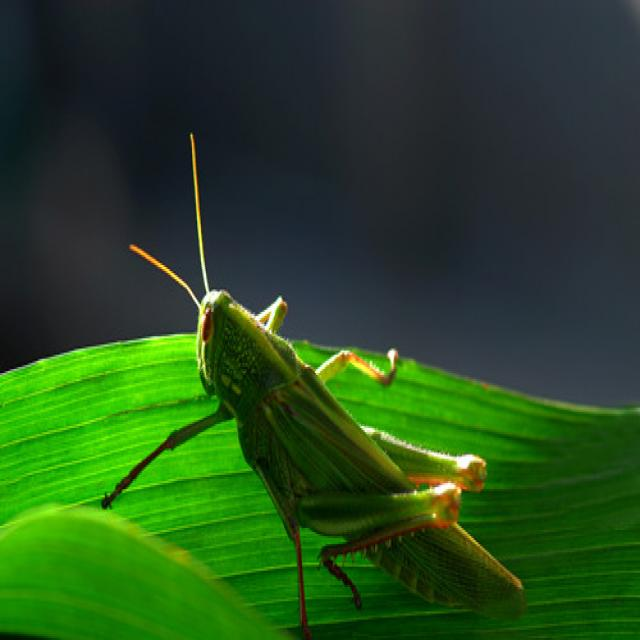ZhaMeng: (146, 178, 534, 620)
